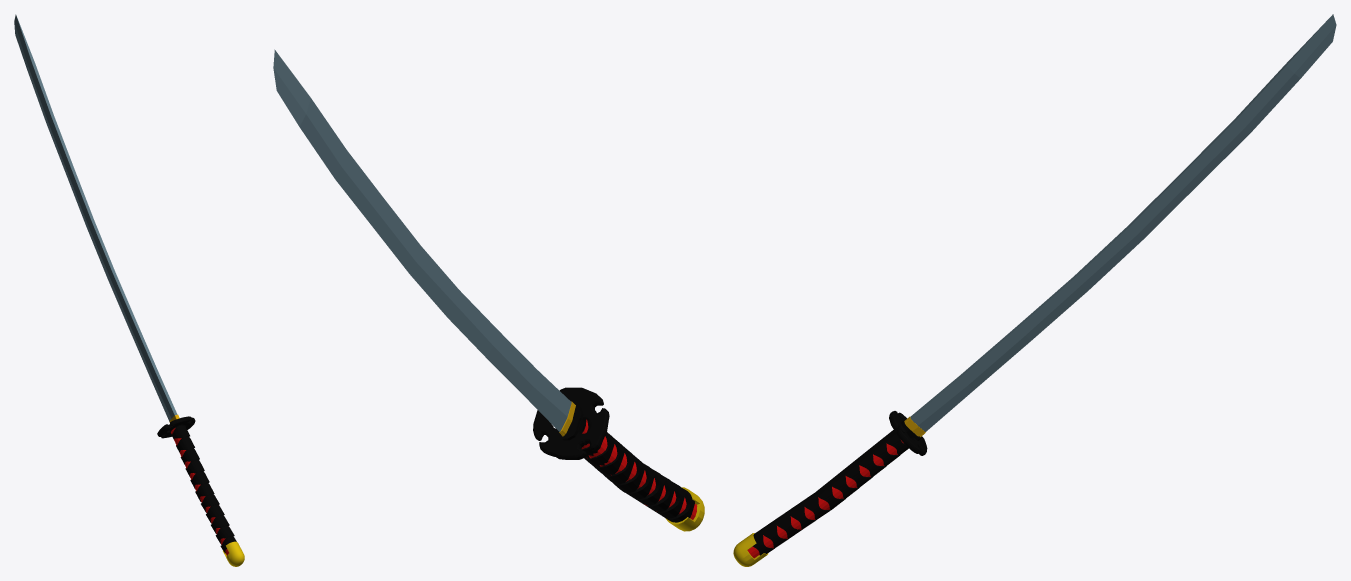
The model's file is katana_low_poly.glb.
3 views of the same model, side by side, from view 1: azimuth 30°, elevation 25°; view 2: azimuth 150°, elevation 25°; view 3: azimuth 270°, elevation 25° (orthographic). The views are drawn at different scales.
Parts seen in each view (by area): view 1: blade.002; view 2: blade.002; view 3: blade.002.
Boxes of the visible parts, bbox=[...] form: blade.002: bbox=[14, 14, 244, 566]; blade.002: bbox=[273, 49, 704, 531]; blade.002: bbox=[733, 14, 1336, 566].
Bounding box in the file's own units: 0.1087 × 1.21 × 1.21.
